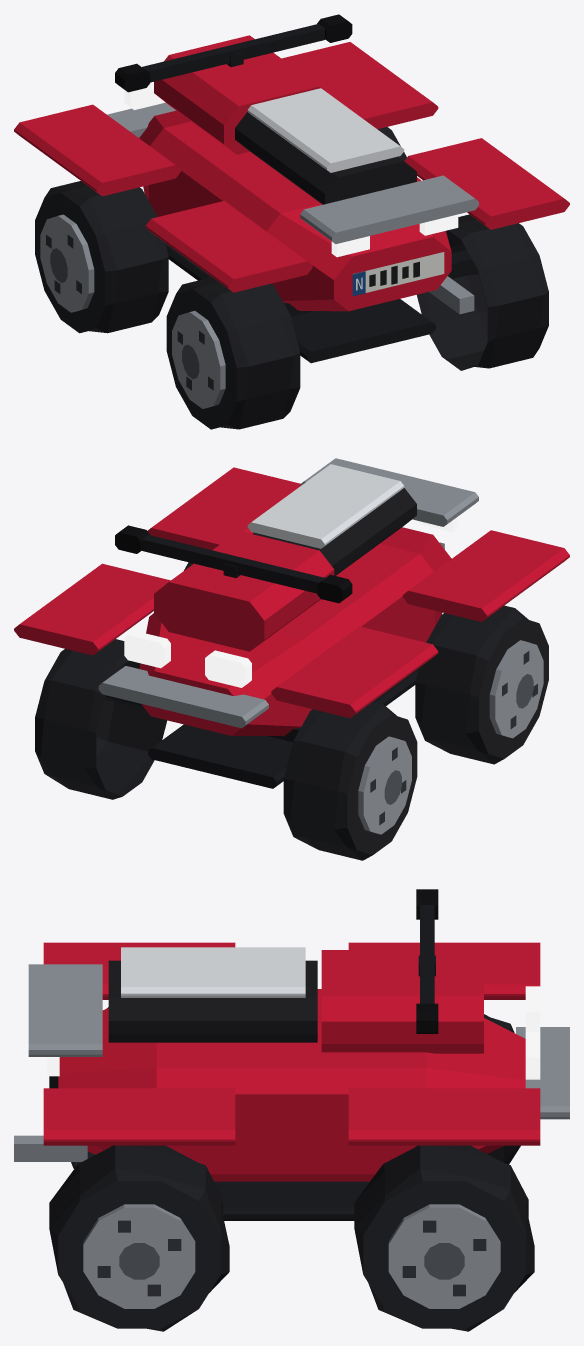
File: atv.glb
3 views of the same model, one above another, from view 1: azimuth 30°, elevation 25°; view 2: azimuth 150°, elevation 25°; view 3: azimuth 270°, elevation 25° (orthographic). The views are drawn at different scales.
Visible parts, largest first — view 1: body.001, wheel_RL.001, wheel_FL.001, wheel_RR.001; view 2: body.001, wheel_FL.001, wheel_RL.001, wheel_FR.001; view 3: body.001, wheel_RR.001, wheel_FR.001, wheel_FL.001.
Part boxes in pixels (left/top/right/bottom): body.001: left=14, top=14, right=569, bottom=363; wheel_RL.001: left=166, top=277, right=300, bottom=429; wheel_FL.001: left=35, top=181, right=168, bottom=333; wheel_RR.001: left=417, top=214, right=548, bottom=370; body.001: left=14, top=458, right=569, bottom=788; wheel_FL.001: left=283, top=702, right=417, bottom=860; wheel_RL.001: left=415, top=605, right=548, bottom=764; wheel_FR.001: left=35, top=639, right=167, bottom=799; body.001: left=14, top=889, right=569, bottom=1220; wheel_RR.001: left=49, top=1145, right=229, bottom=1331; wheel_FR.001: left=354, top=1145, right=534, bottom=1331; wheel_FL.001: left=484, top=1014, right=520, bottom=1164.
Size of the model in its own units: 1.86 by 1.33 by 2.26.
